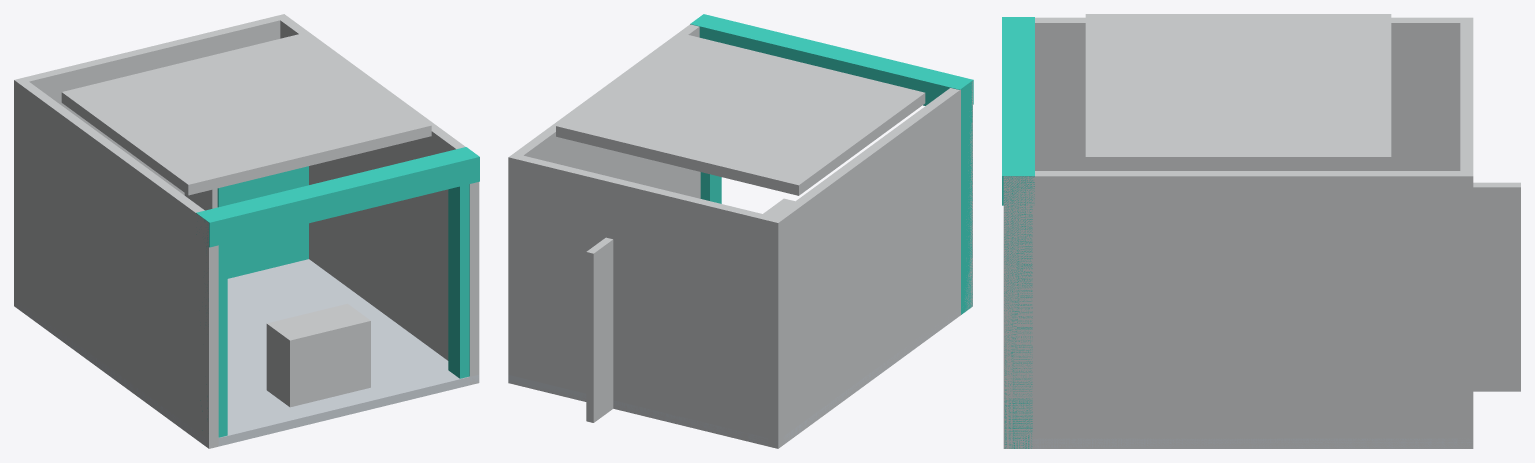
3 views of the same model, side by side, from view 1: azimuth 30°, elevation 25°; view 2: azimuth 150°, elevation 25°; view 3: azimuth 270°, elevation 25° (orthographic). The views are drawn at different scales.
Parts seen in each view (by area): view 1: Exhibition Booth Concept; view 2: Exhibition Booth Concept; view 3: Exhibition Booth Concept.
Boxes of the visible parts, bbox=[...] form: Exhibition Booth Concept: bbox=[14, 14, 479, 448]; Exhibition Booth Concept: bbox=[508, 14, 973, 448]; Exhibition Booth Concept: bbox=[1002, 14, 1520, 448].
Bounding box in the file's own units: 4 × 3.34 × 5.52.
